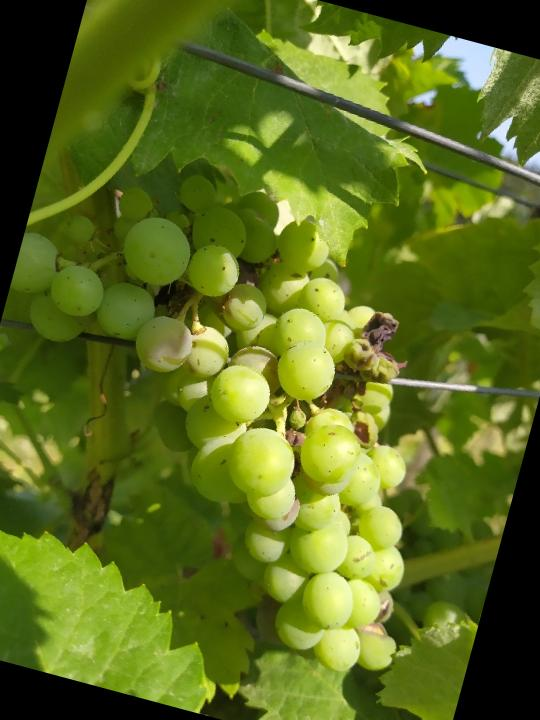grape: (0, 135, 503, 688)
